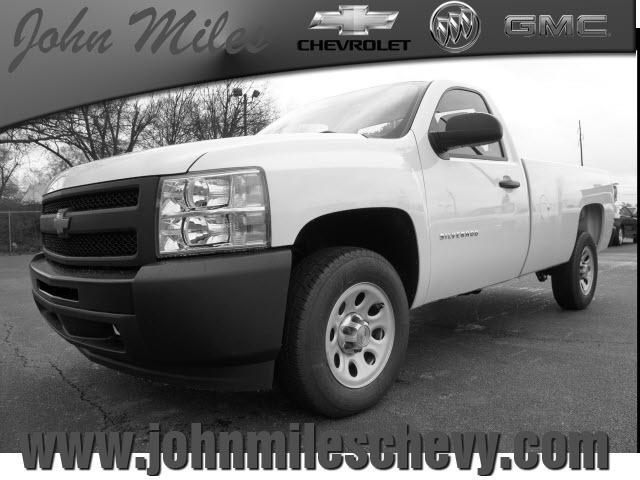car: (27, 75, 619, 421)
